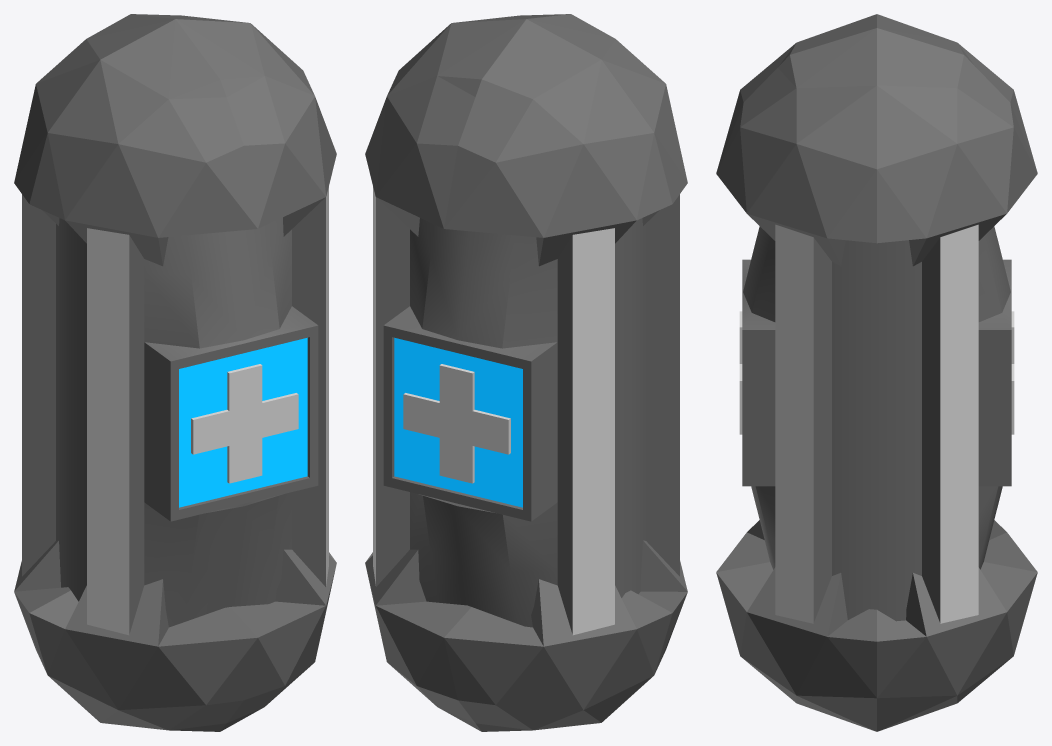
File: healthpack.fbx
3 views of the same model, side by side, from view 1: azimuth 30°, elevation 25°; view 2: azimuth 150°, elevation 25°; view 3: azimuth 270°, elevation 25° (orthographic). The views are drawn at different scales.
Parts seen in each view (by area): view 1: Tube, Ends, Cross; view 2: Tube, Ends, Cross; view 3: Tube, Ends, Cross.
Boxes of the visible parts, bbox=[...] form: Tube: bbox=[22, 187, 328, 635]; Ends: bbox=[14, 14, 336, 731]; Cross: bbox=[191, 364, 298, 483]; Tube: bbox=[373, 187, 679, 635]; Ends: bbox=[365, 14, 687, 731]; Cross: bbox=[403, 364, 510, 483]; Tube: bbox=[742, 224, 1011, 623]; Ends: bbox=[716, 14, 1037, 731]; Cross: bbox=[739, 311, 1014, 434].
Size of the model in its own units: 2.8 by 6.48 by 2.74.
